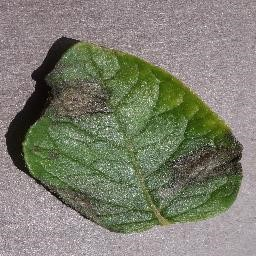po_Lb: (21, 40, 244, 236)
